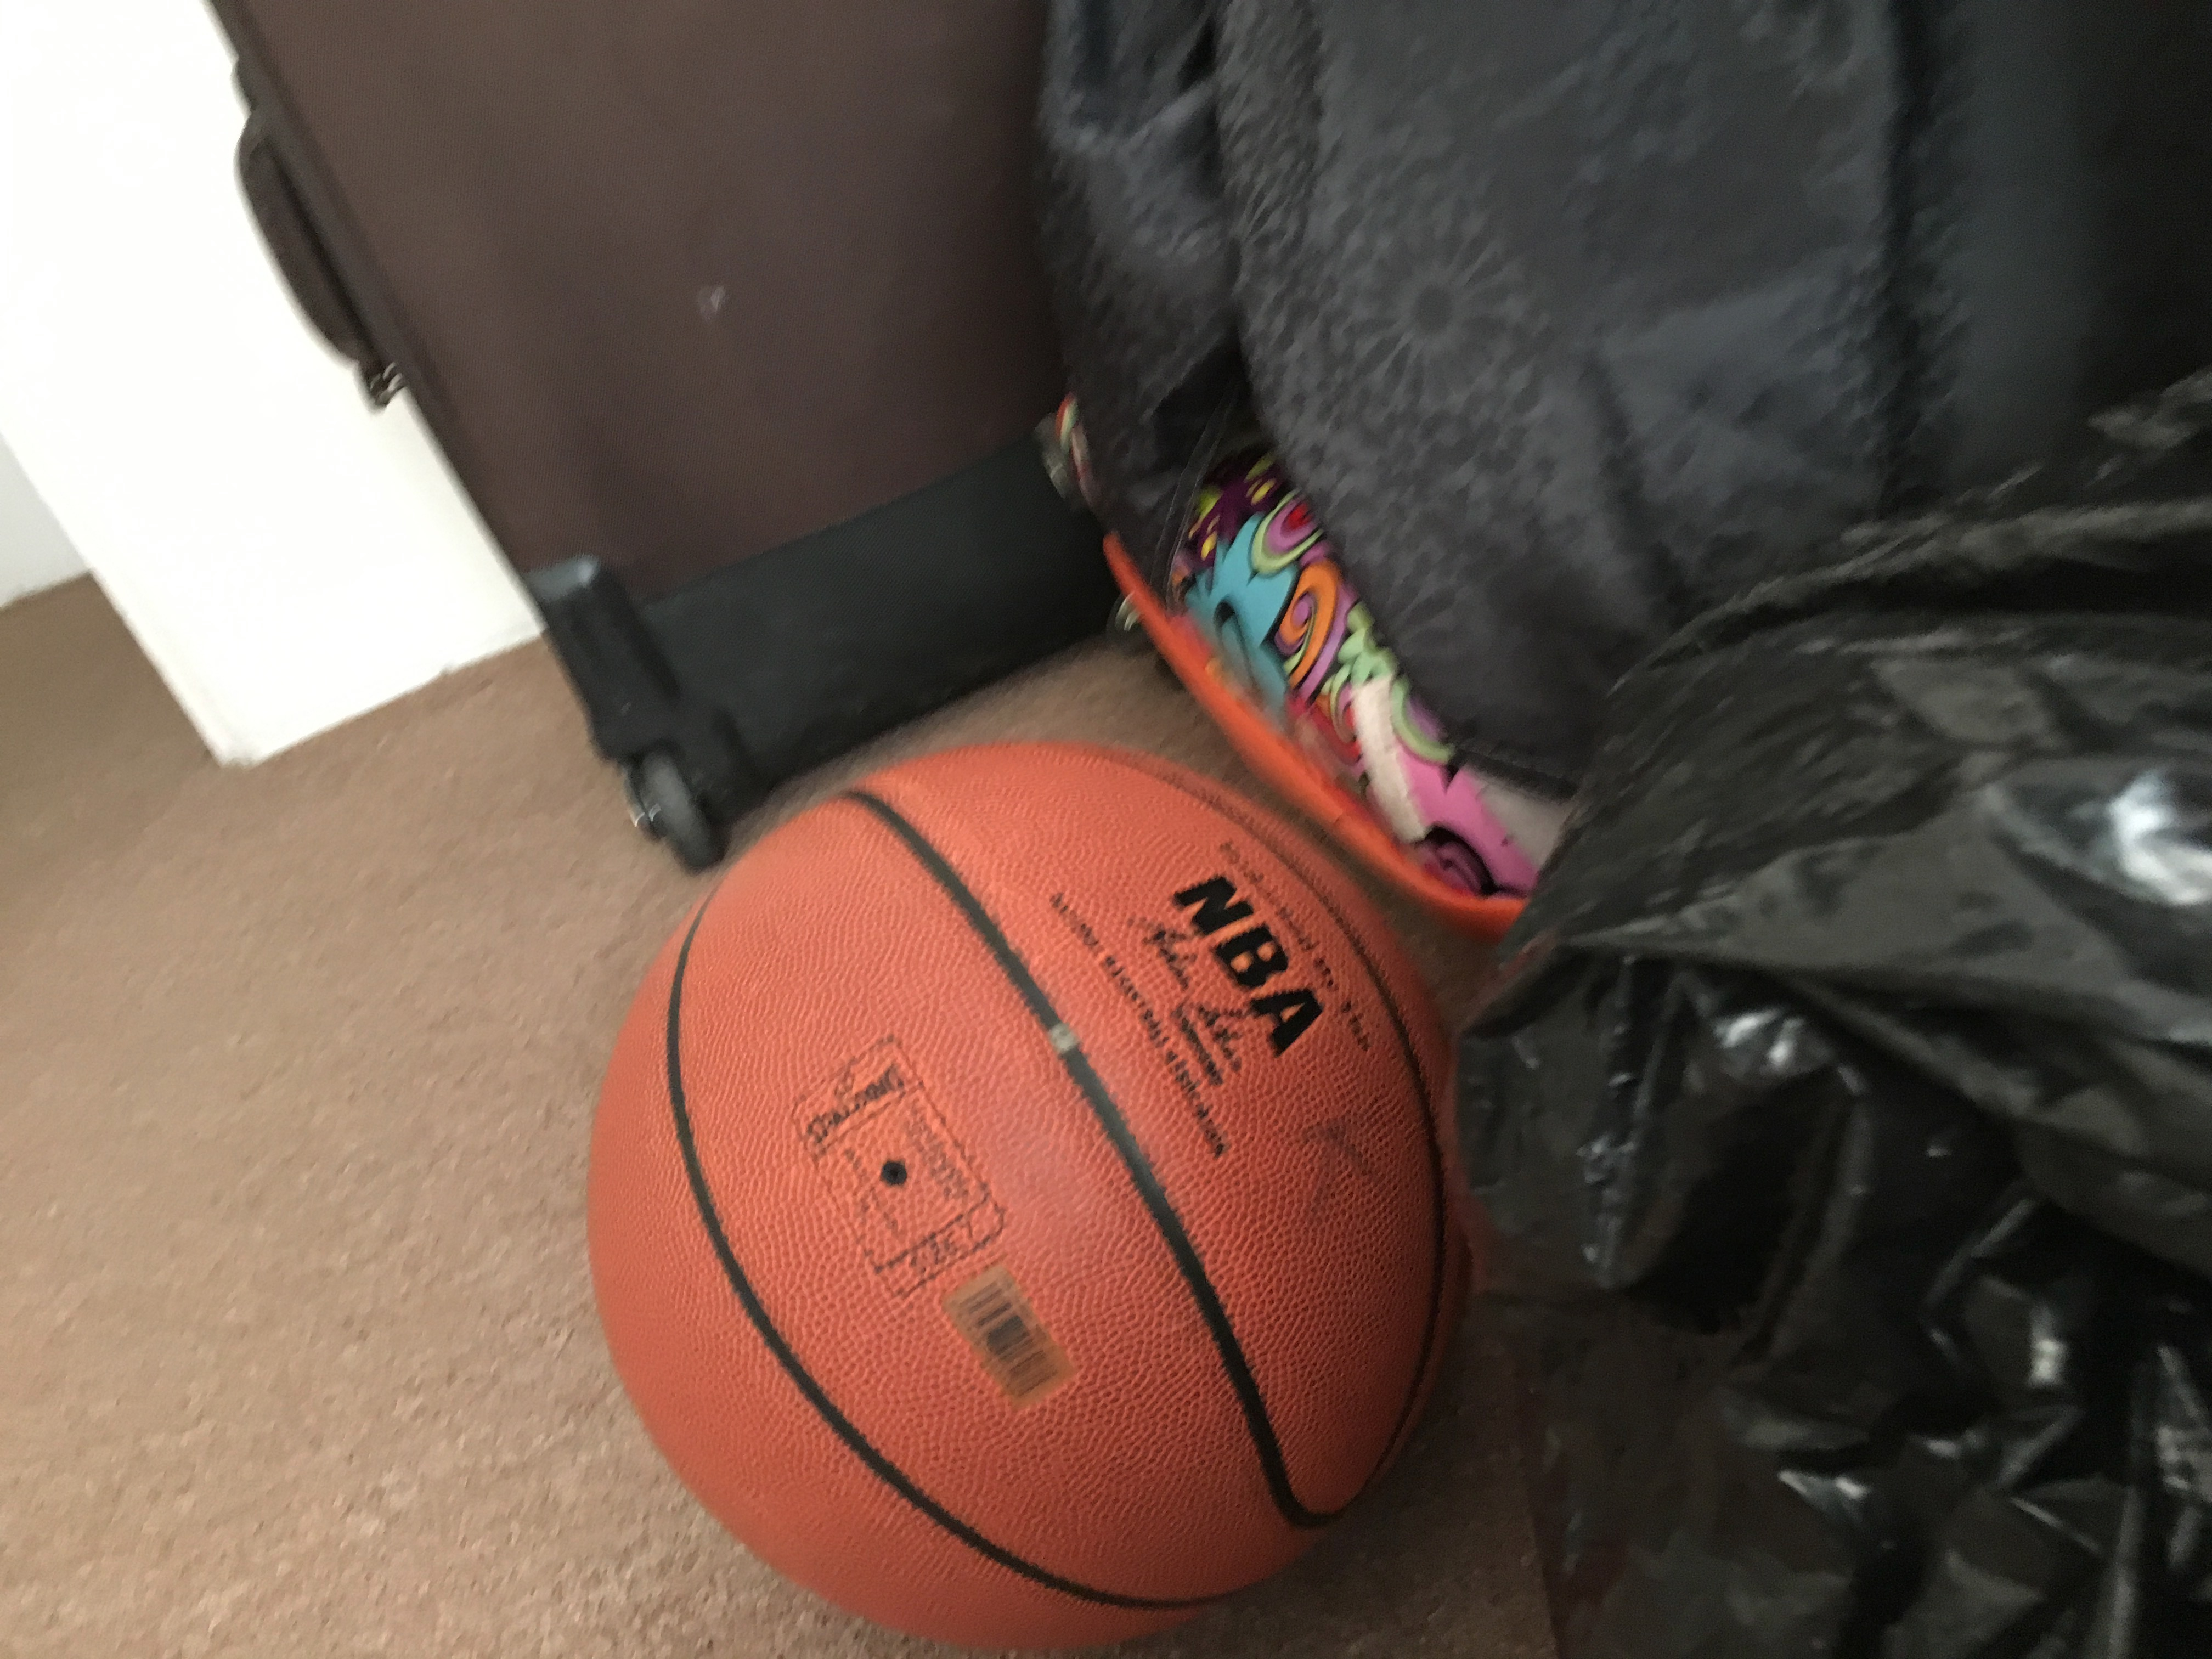Basketball: (563, 735, 1489, 1645)
